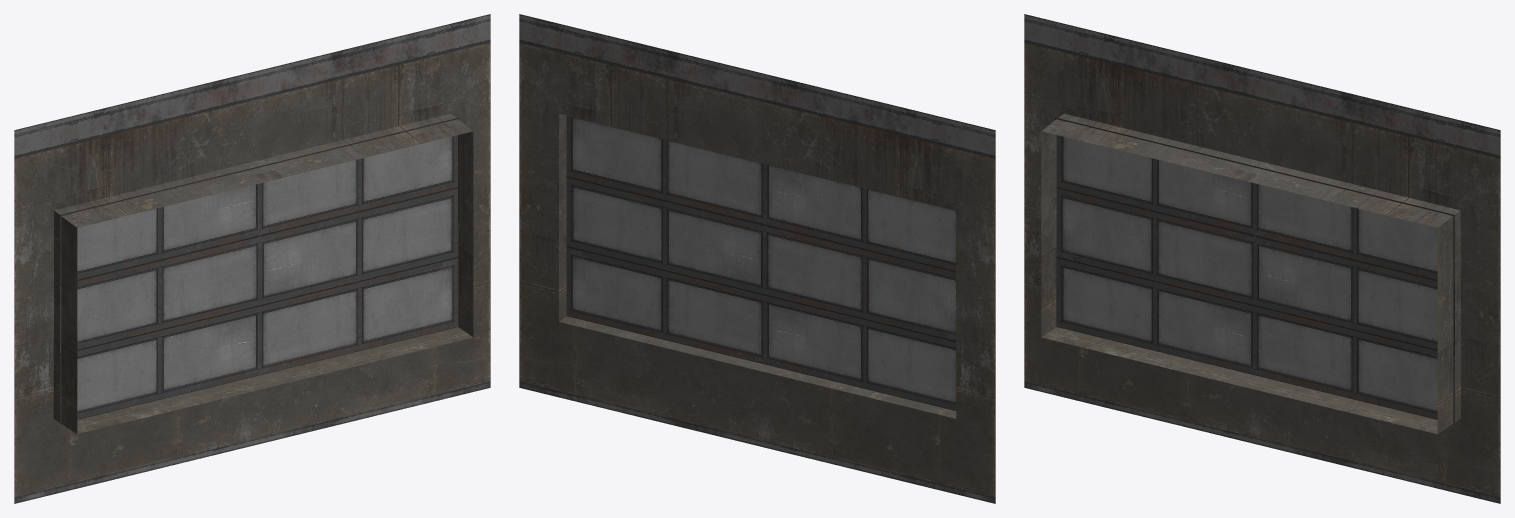
The model's file is ARC0910288.fbx.
3 views of the same model, side by side, from view 1: azimuth 30°, elevation 25°; view 2: azimuth 150°, elevation 25°; view 3: azimuth 330°, elevation 25° (orthographic).
Parts seen in each view (by area): view 1: smARC0910288; view 2: smARC0910288; view 3: smARC0910288.
Boxes of the visible parts, <box> form: smARC0910288: <box>14,14,490,503</box>; smARC0910288: <box>519,14,995,503</box>; smARC0910288: <box>1024,14,1500,503</box>.
Size of the model in its own units: 400 by 300 by 33.44.
Materials: 1 (1 with a texture image).
